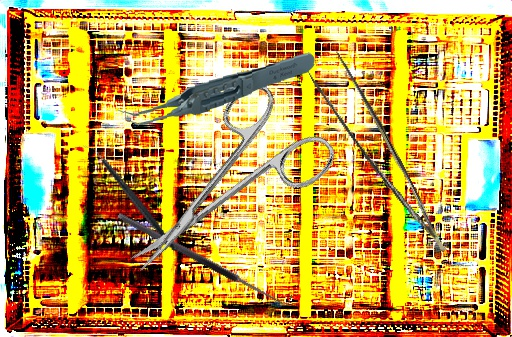Chopper: (81, 126, 178, 269)
Hook Surgical: (116, 203, 294, 310)
Iris Scissors: (94, 69, 342, 307)
Tissue Forceps: (304, 45, 447, 270), (114, 50, 319, 127)
